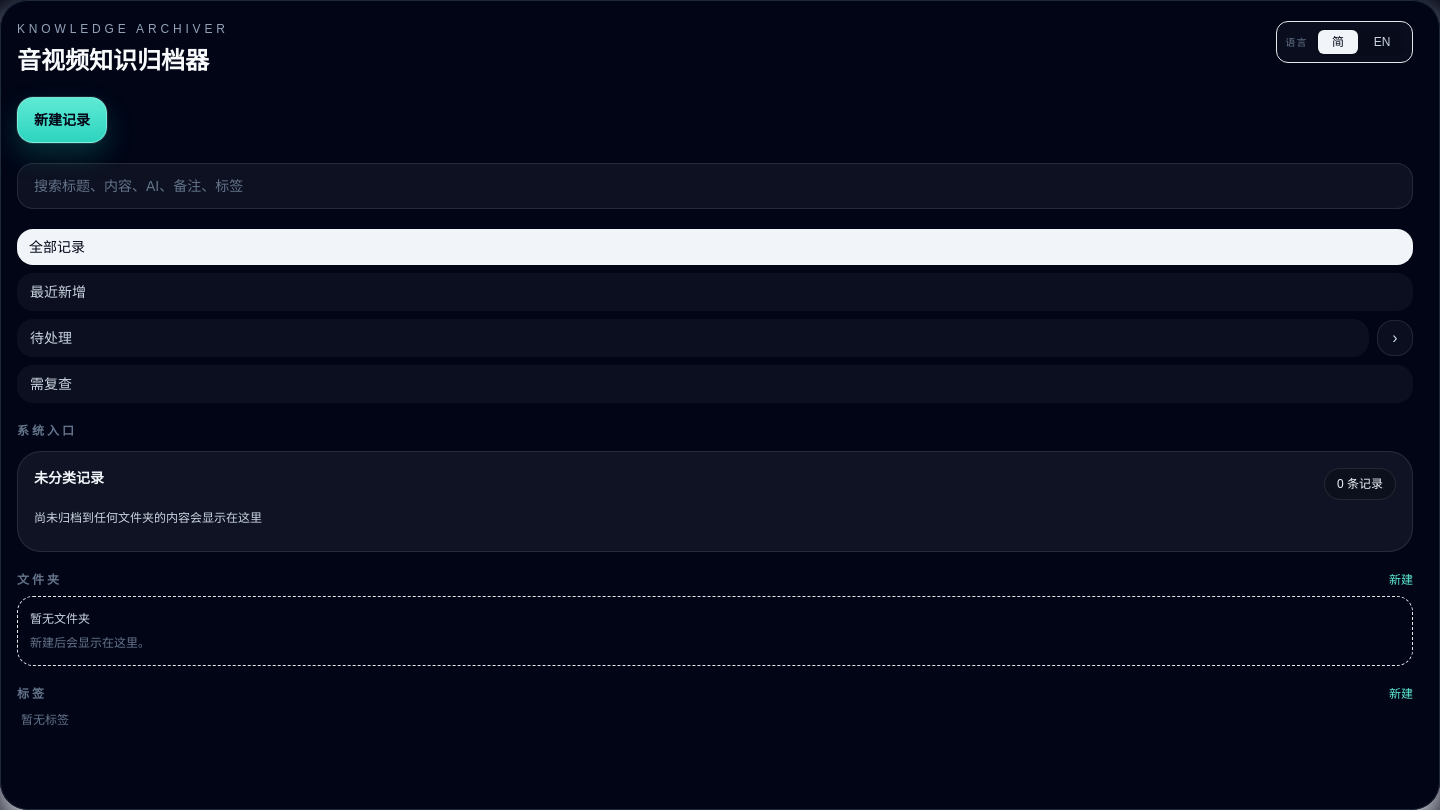
Test case: Sidebar › keeps the wide pending bucket collapsed by default while exposing the child filter only on demand
Expected: the button "待处理" is shown, [17,319,1369,357]
Expected: the button "整理待复核" is not shown
Click the button named "展开子状态" at [1395, 338], box [1377,320,1413,356]
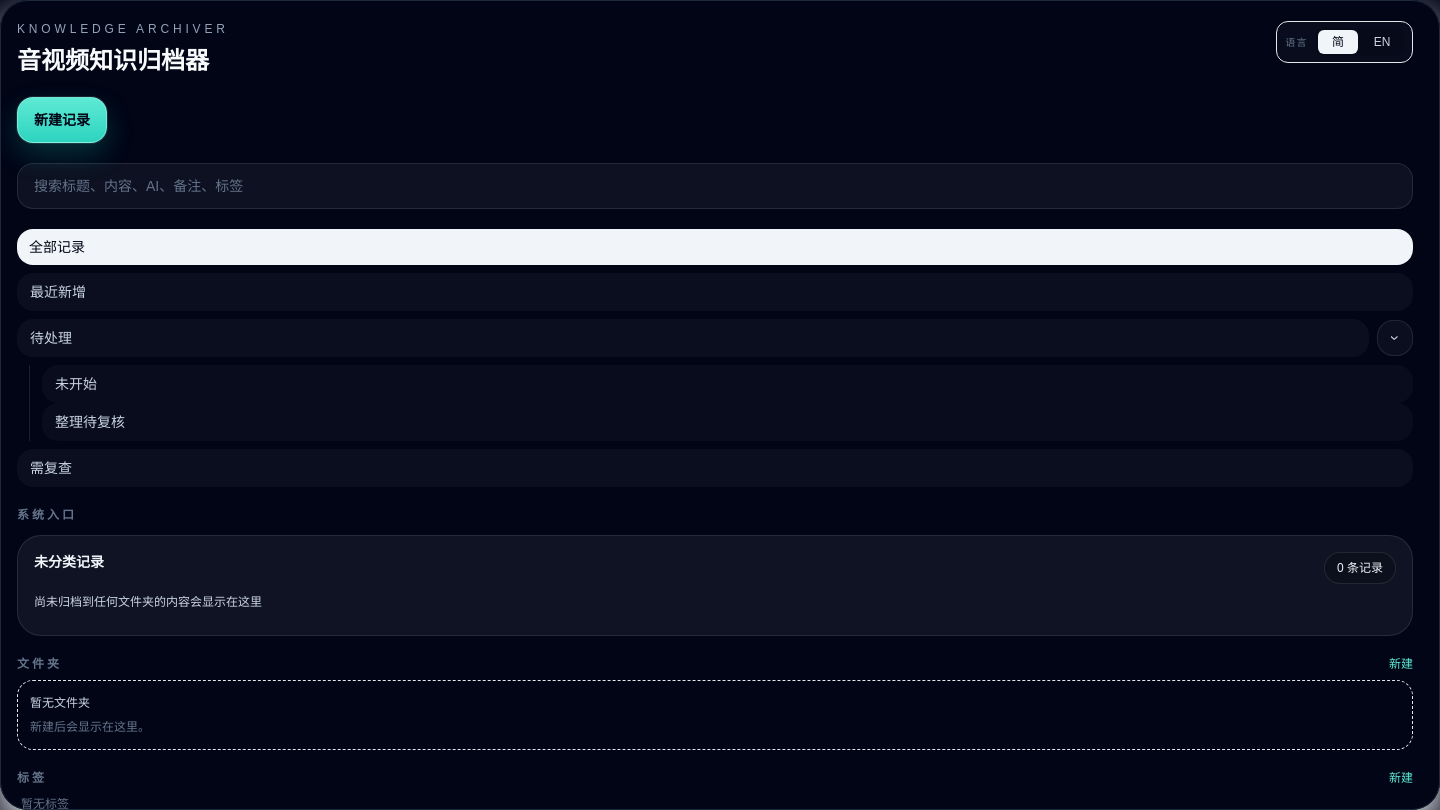
Now the button named "收起子状态" is shown, box [1377,320,1413,356]
Now the button "未开始" is shown, box [42,365,1413,403]
Now the button "整理待复核" is shown, box [42,403,1413,441]
Click the button "待处理" at [51, 338], box [17,319,1369,357]
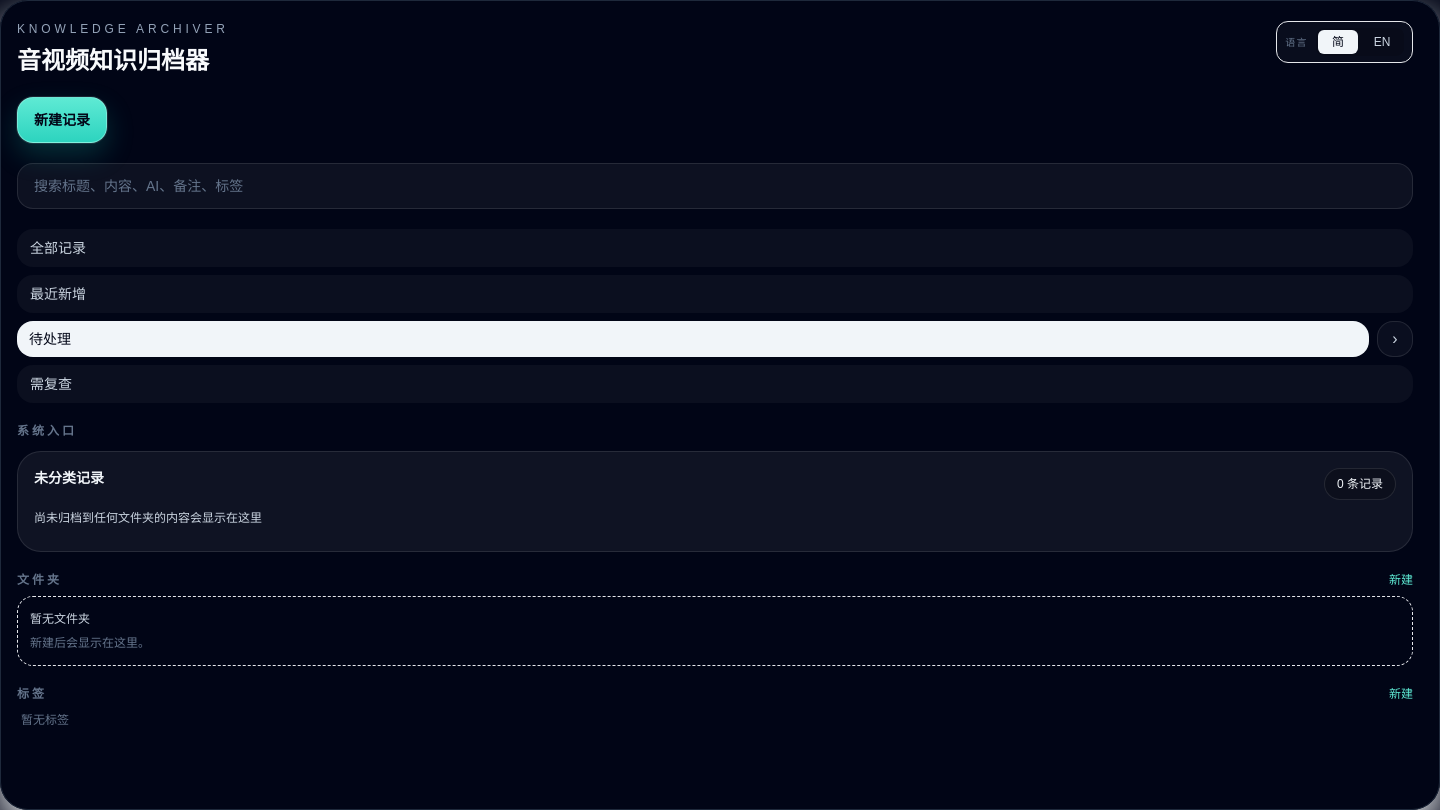
Now the button "未开始" is gone
Now the button "整理待复核" is gone
Now the button named "展开子状态" is shown, box [1377,321,1413,357]
